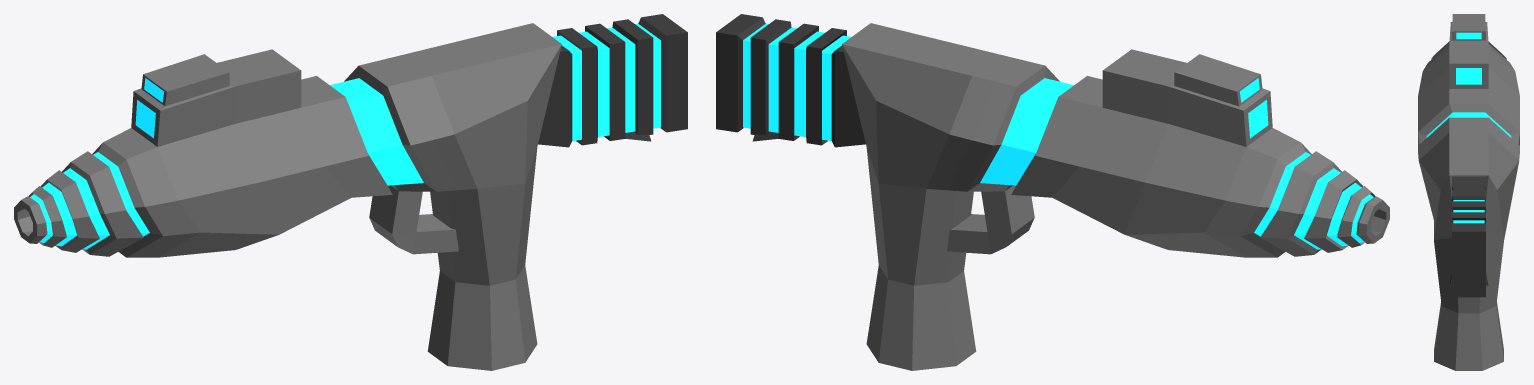
File: BasicBlaster.fbx
The picture shows the model from 3 angles, left to right: view 1: azimuth 30°, elevation 25°; view 2: azimuth 150°, elevation 25°; view 3: azimuth 270°, elevation 25°; orthographic projection. The views are drawn at different scales.
Visible parts, largest first — view 1: Cube; view 2: Cube; view 3: Cube.
Boxes of the visible parts, x1,y1,x2,y2 form: Cube: [14, 14, 687, 370]; Cube: [716, 14, 1389, 370]; Cube: [1418, 14, 1519, 370].
Size of the model in its own units: 999 by 513 by 200.
